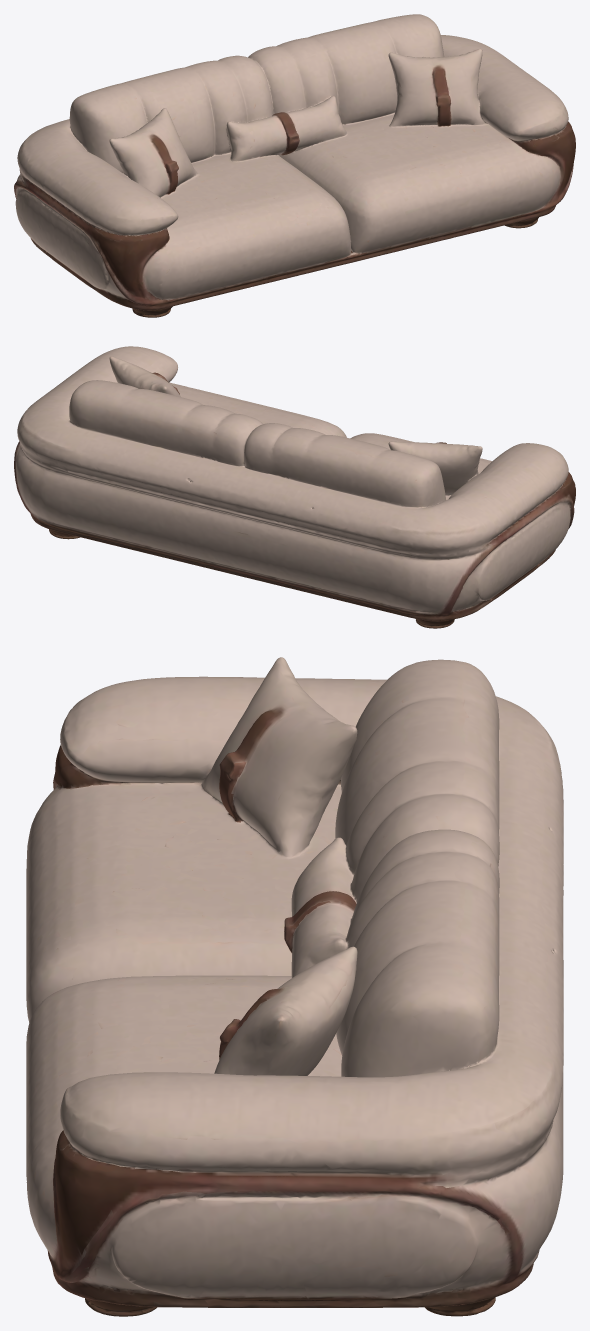
The model's file is Contemporary Rounded Arm Fabric Sofa with Wood Accents [lYsV5h].glb.
3 renders of one model, top to bottom at view 1: azimuth 30°, elevation 25°; view 2: azimuth 150°, elevation 25°; view 3: azimuth 270°, elevation 25°, orthographic. The views are drawn at different scales.
Visible parts, largest first — view 1: world; view 2: world; view 3: world.
Part boxes in pixels (x1=…): world: x1=14, y1=14, x2=575, y2=317; world: x1=14, y1=346, x2=575, y2=628; world: x1=26, y1=657, x2=563, y2=1316.
Size of the model in its own units: 1 by 0.308 by 0.4917.
1 material, 1 textured.
